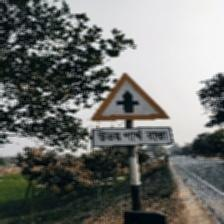Crossroad: (89, 73, 173, 150)
